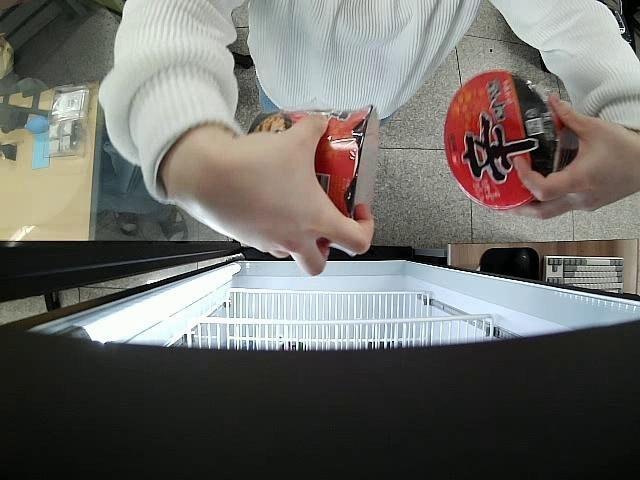01_ShinRamen_L: (244, 103, 376, 260), (442, 70, 578, 211)
